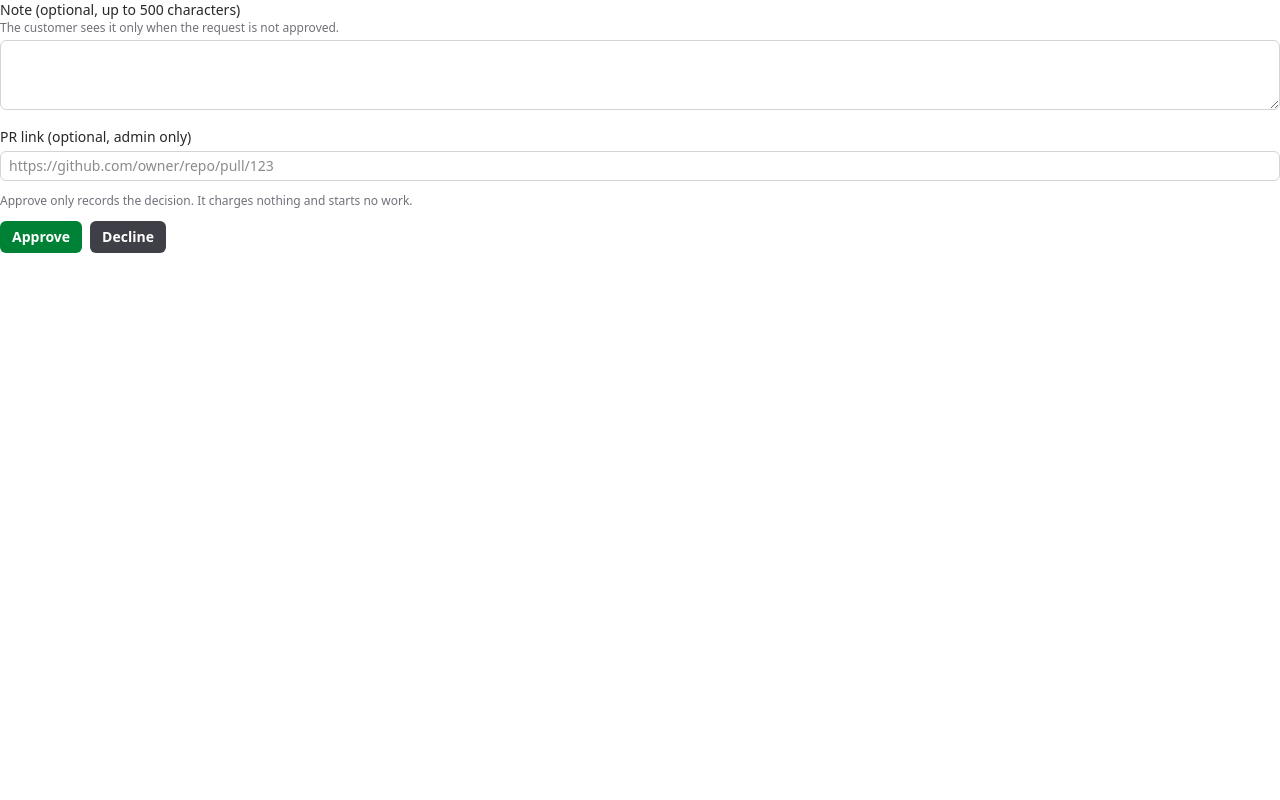
Test case: Approve / Decline confirm step (Aria ruling 5) › Escape closes the confirm step
Click the button "Approve" at coordinates (41, 237), box [0,221,82,253]
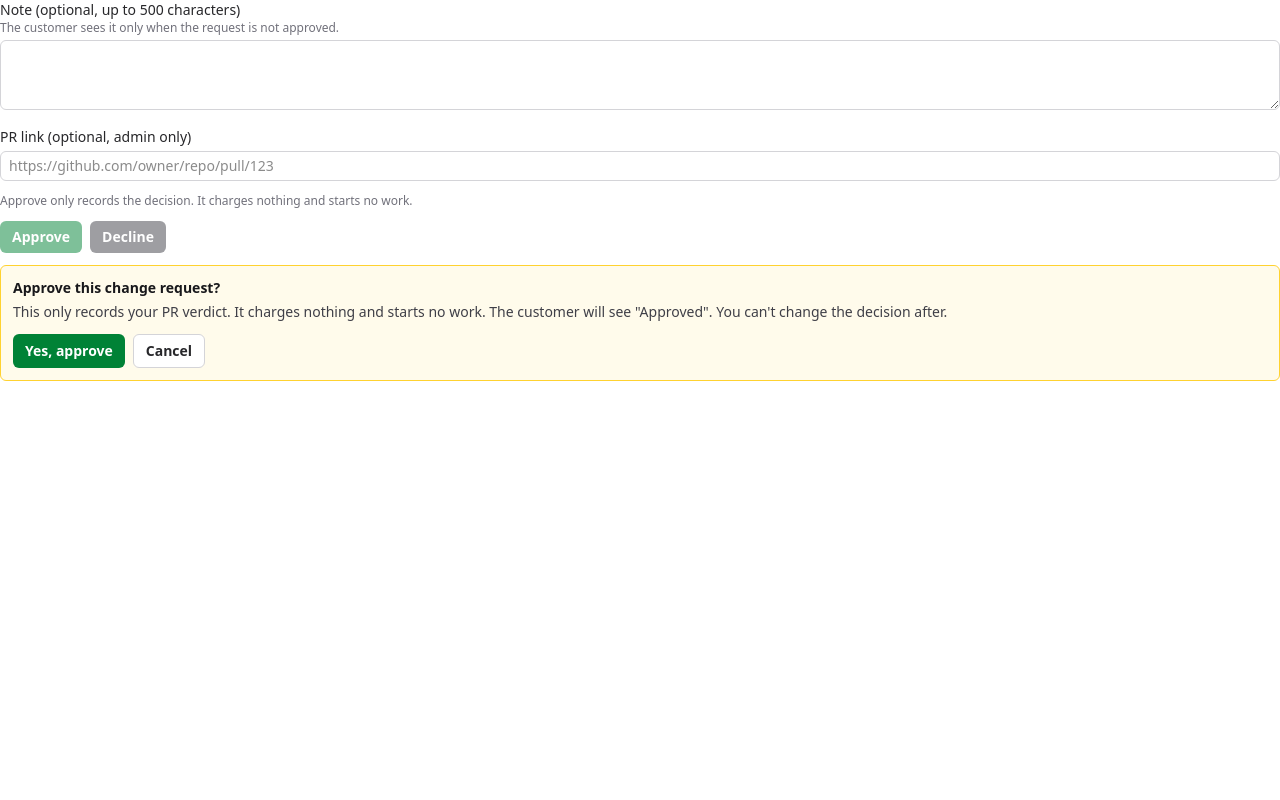
Press Escape in the dialog, box [0,265,1279,381]
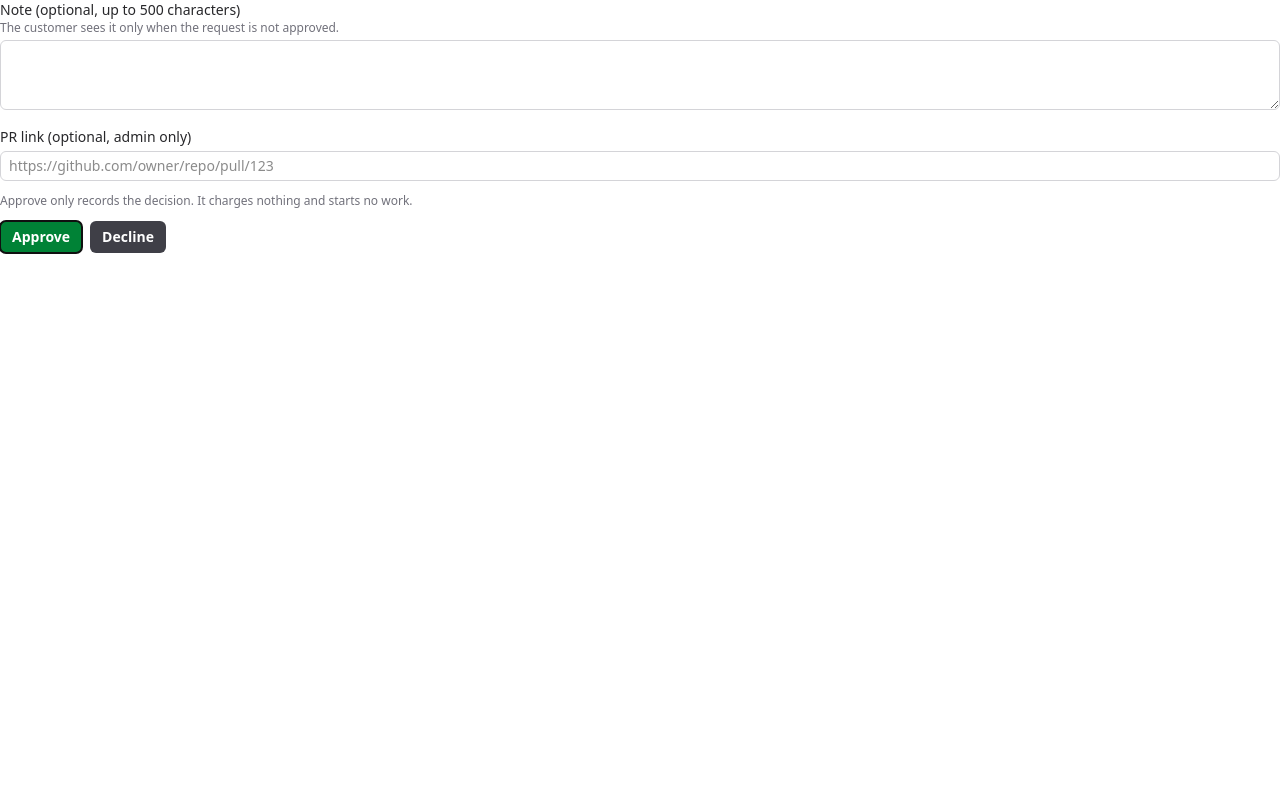
Expected: the dialog is gone
